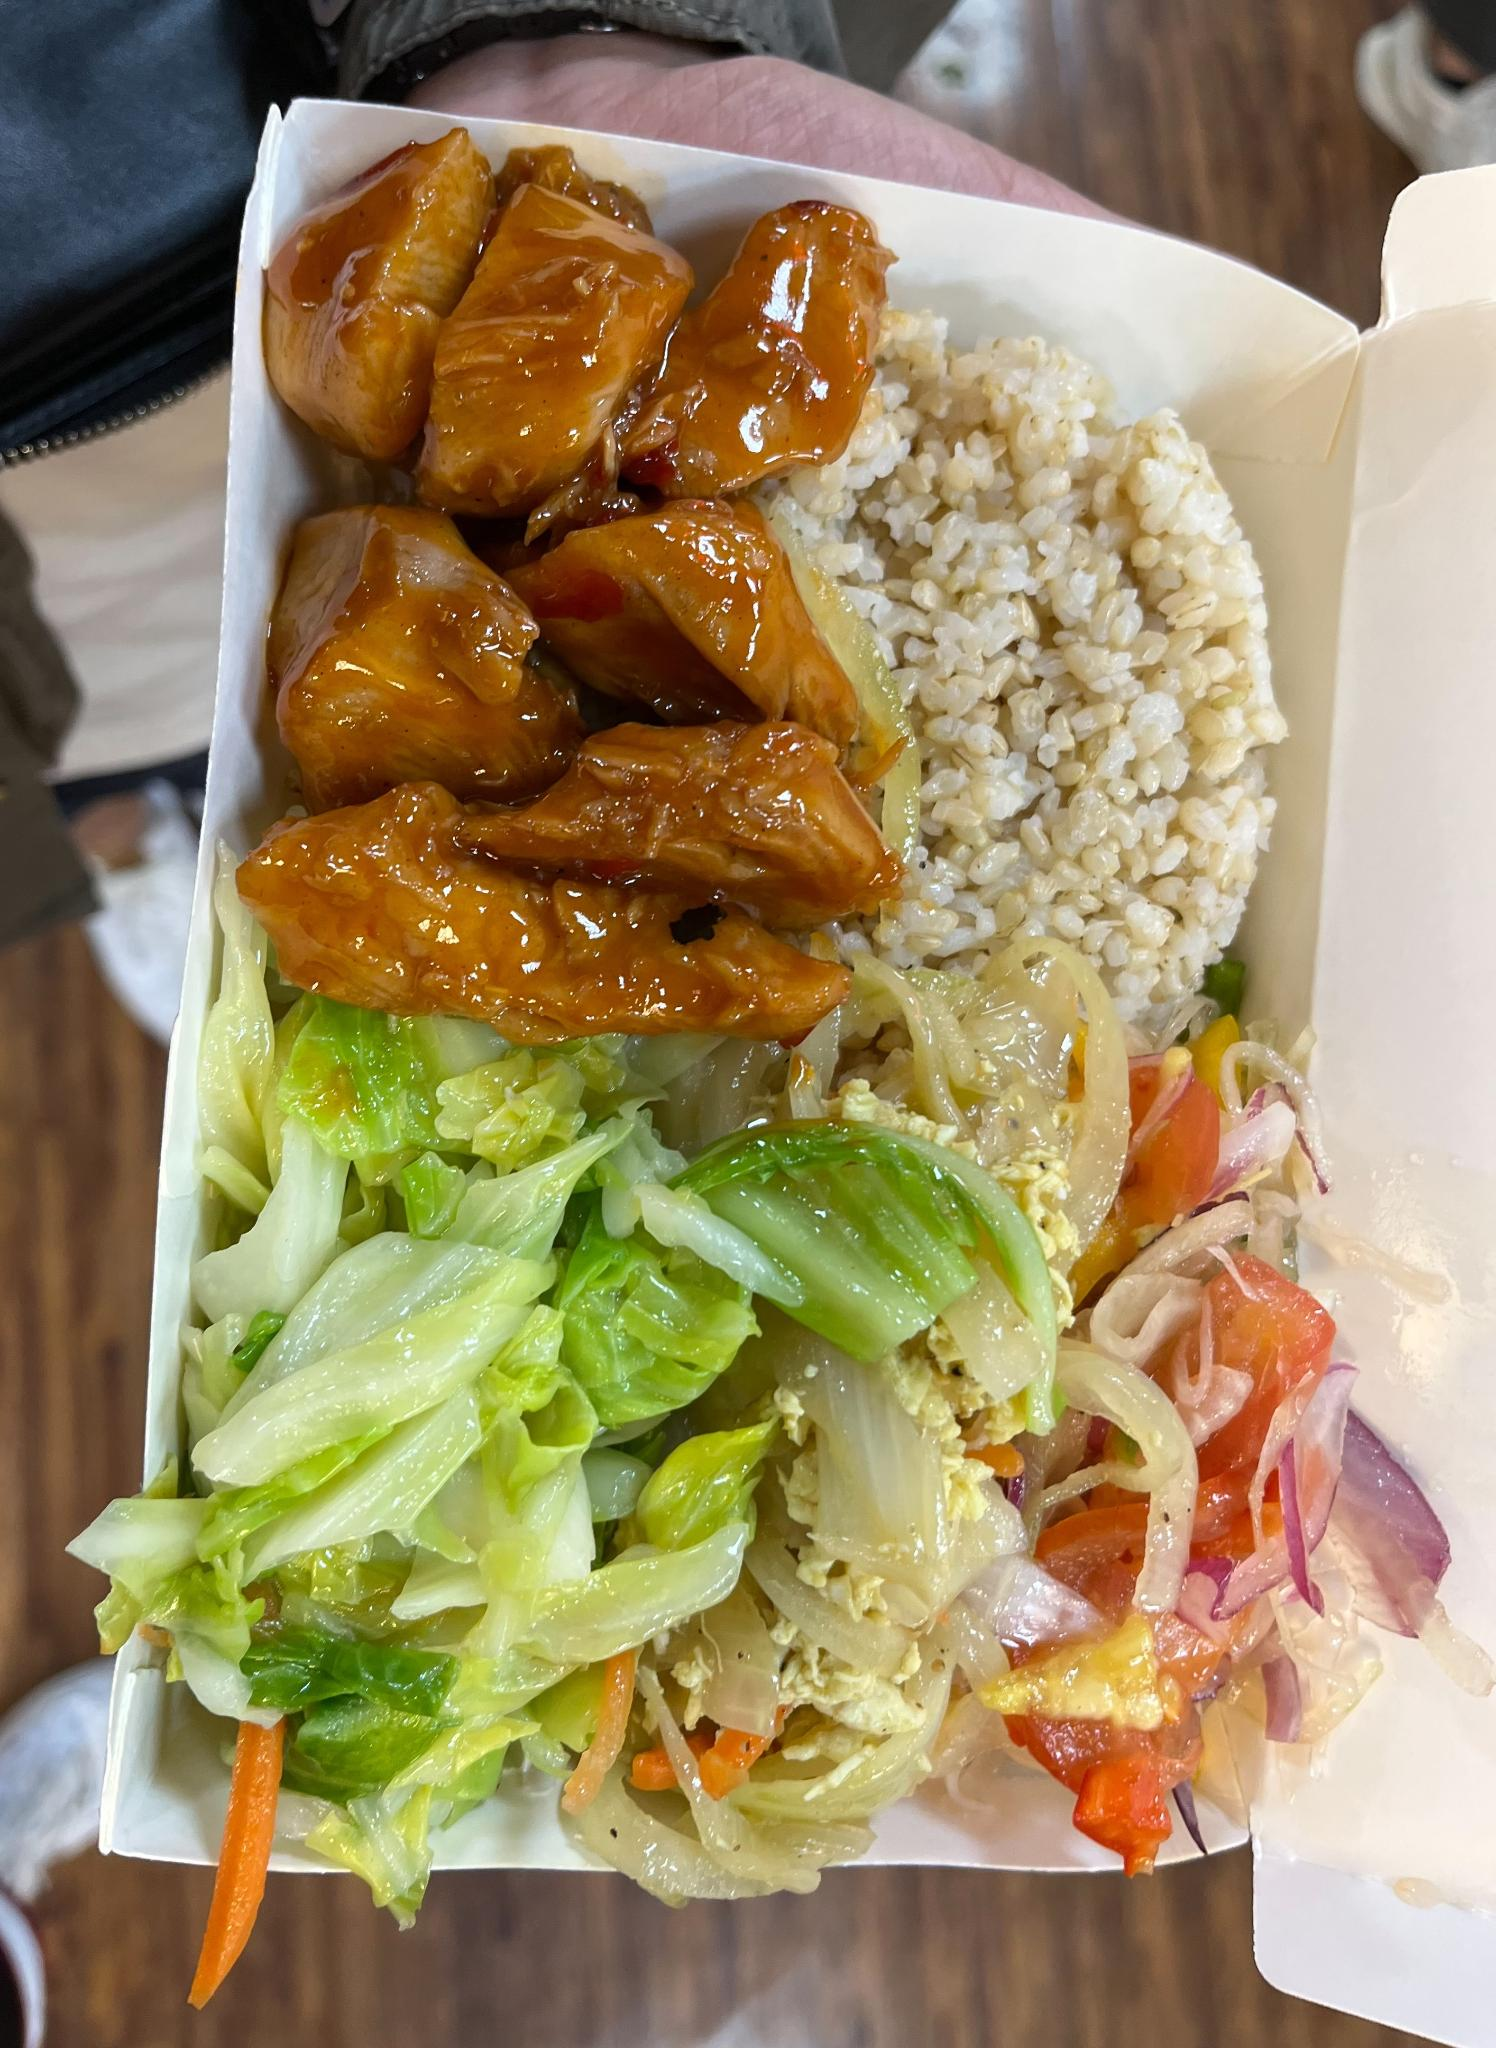big grilled chicken leg: (97, 45, 1413, 1924)
box: (677, 296, 1297, 1078)
braised fish fillet: (122, 986, 773, 1856), (685, 1002, 1097, 1859), (975, 1038, 1393, 1860)
braised pork: (191, 143, 927, 1056)
